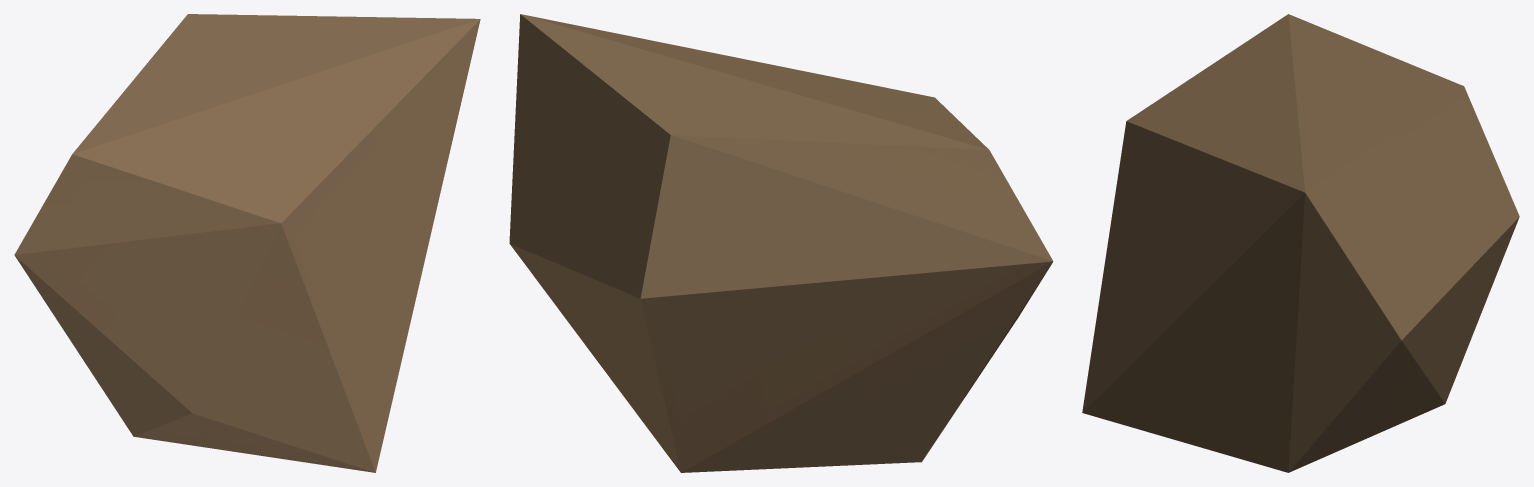
The model's file is Rock-B02.fbx.
3 renders of one model, left to right at view 1: azimuth 30°, elevation 25°; view 2: azimuth 150°, elevation 25°; view 3: azimuth 270°, elevation 25°, orthographic. The views are drawn at different scales.
Parts seen in each view (by area): view 1: Rock-B02; view 2: Rock-B02; view 3: Rock-B02.
Boxes of the visible parts, bbox=[...] form: Rock-B02: bbox=[14, 14, 480, 472]; Rock-B02: bbox=[509, 14, 1053, 472]; Rock-B02: bbox=[1082, 14, 1519, 472].
Size of the model in its own units: 56.97 by 37.4 by 44.75.
